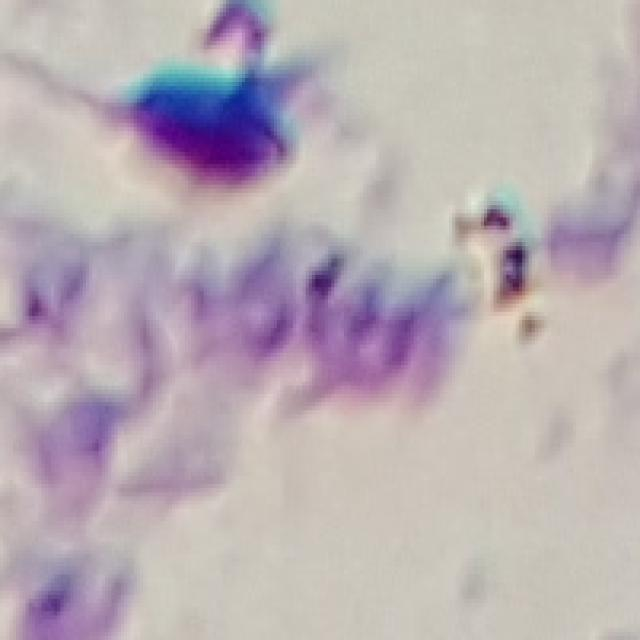non-sperm: (72, 18, 466, 408)
